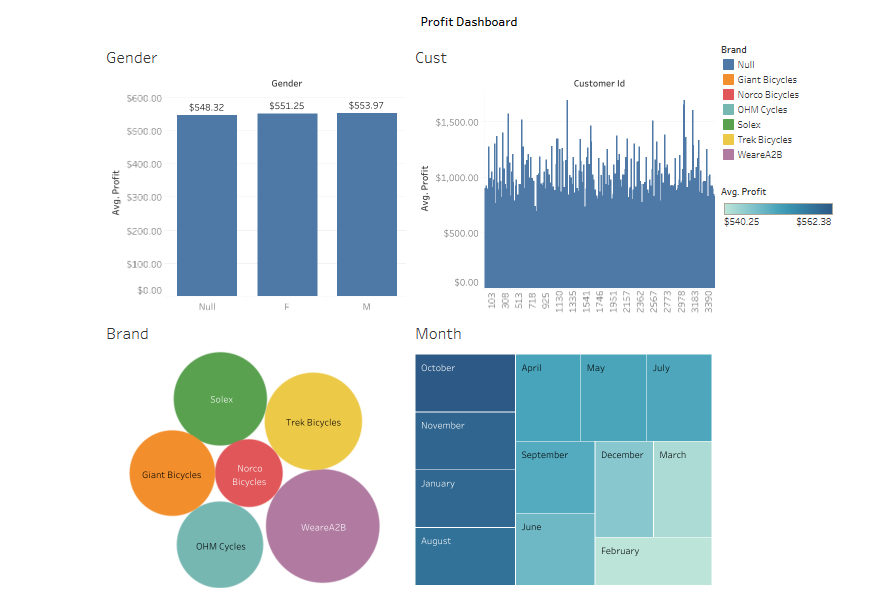

The dashboard page shown, as its layout file describes it:
{"tool":"tableau","page":{"name":"Dashboard 1","canvas":[1000,800],"ordinal":0},"visuals":[{"type":"text","box":[8,8,984,49]},{"type":"worksheet","title":"Gender","mark":"Automatic","rows":["Profit"],"cols":["gender"],"box":[8,57,412,367.5]},{"type":"worksheet","title":"Cust","mark":"Automatic","rows":["Profit"],"cols":["customer_id"],"box":[420,57,412,367.5]},{"type":"legend","title":"Brand","param":"[federated.0by9kv607efha314ym0091g7gl8i].[none:brand:nk]","box":[832,57,160,167]},{"type":"legend","title":"Brand","param":"[federated.0by9kv607efha314ym0091g7gl8i].[avg:Profit:qk]","box":[832,224,160,22]},{"type":"legend","title":"Month","param":"[federated.0by9kv607efha314ym0091g7gl8i].[avg:Profit:qk]","box":[832,246,160,68]},{"type":"worksheet","title":"Brand","mark":"Circle","box":[8,424.5,412,367.5]},{"type":"worksheet","title":"Month","mark":"Automatic","box":[420,424.5,412,367.5]}]}

Visuals, with their boxes on the page's 1000x800 design canvas (x1, y1, x2, y2). These are canvas units, not pixel positions in the 891x595 screenshot, which may show the page scaled, cropped or inside an application window:
text: box(8, 8, 992, 57)
"Gender" worksheet: box(8, 57, 420, 424)
"Cust" worksheet: box(420, 57, 832, 424)
"Brand" legend: box(832, 57, 992, 224)
"Brand" legend: box(832, 224, 992, 246)
"Month" legend: box(832, 246, 992, 314)
"Brand" worksheet (Circle marks): box(8, 424, 420, 792)
"Month" worksheet: box(420, 424, 832, 792)
